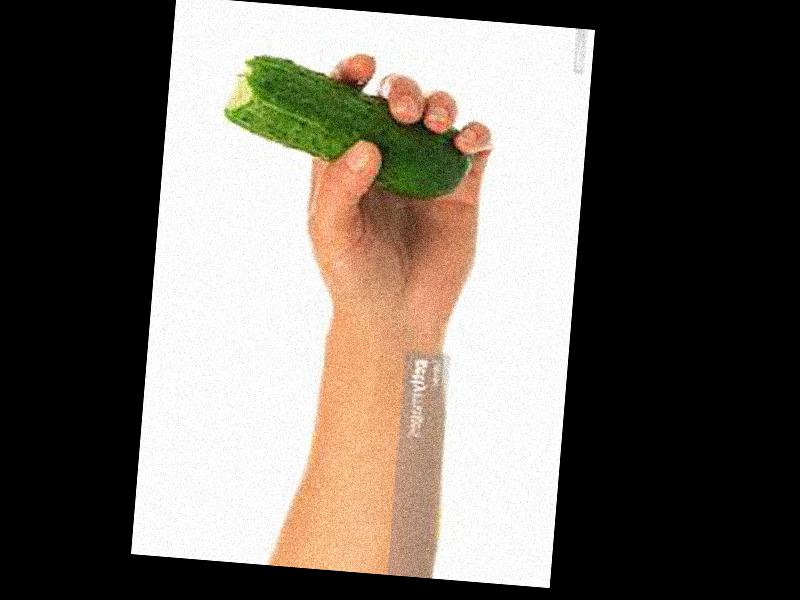Cucumber: (219, 53, 476, 201)
